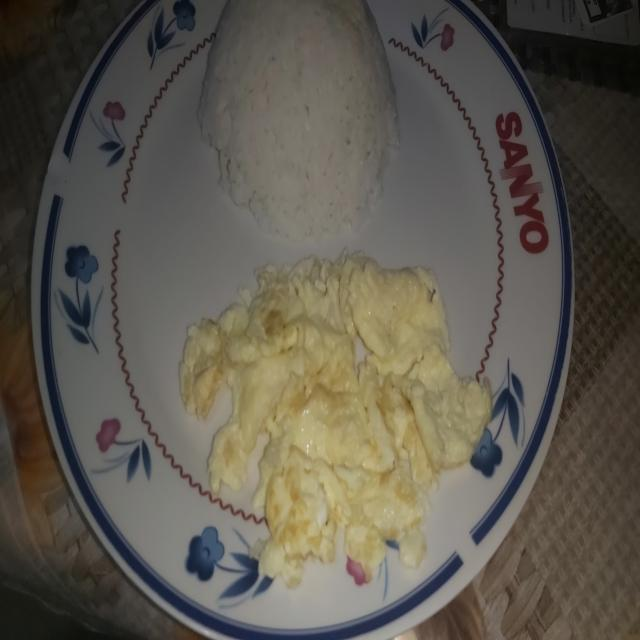Chicken -Chicken Inasal-: (199, 0, 394, 232)
